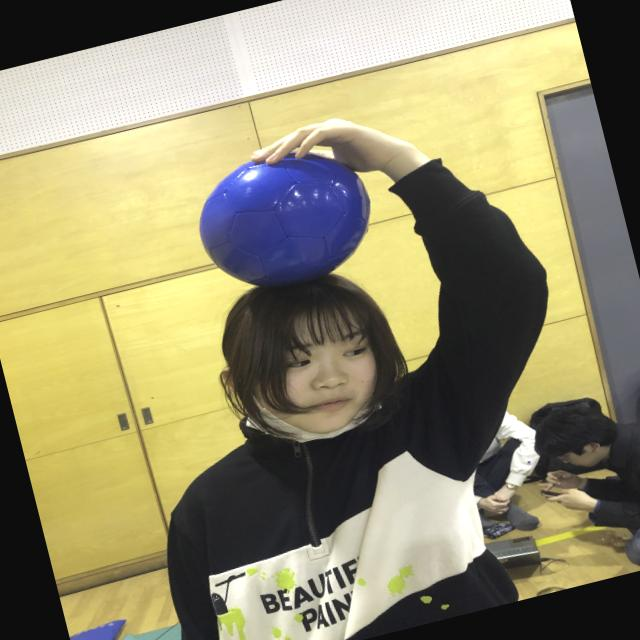blue_ball: (188, 132, 390, 302)
